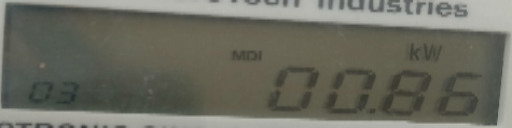0: (263, 59, 321, 120), (326, 66, 379, 117)
6: (437, 67, 485, 128)
8: (384, 70, 435, 128)
d: (368, 107, 378, 117)
